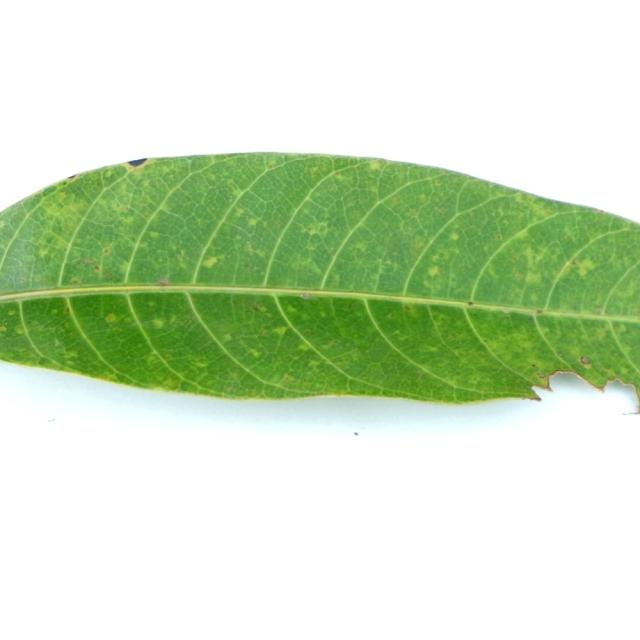Mango: (0, 154, 639, 403)
Powdery_Mildew: (535, 368, 597, 394), (603, 377, 639, 412), (325, 345, 362, 366), (197, 253, 225, 275), (572, 255, 597, 278), (527, 372, 553, 393), (122, 158, 148, 170), (303, 222, 324, 235), (525, 270, 543, 284), (13, 195, 33, 207), (272, 326, 288, 338), (120, 261, 134, 274), (353, 241, 369, 252), (38, 246, 52, 258), (145, 354, 160, 365), (284, 303, 299, 314), (164, 378, 179, 389), (181, 319, 196, 330), (427, 265, 440, 277), (151, 318, 165, 329), (368, 160, 382, 171), (297, 343, 313, 352), (231, 187, 244, 198), (253, 248, 266, 259), (539, 326, 552, 337), (247, 348, 260, 358), (414, 240, 426, 250), (424, 345, 439, 353), (579, 355, 591, 365), (247, 217, 260, 226), (254, 303, 267, 312), (193, 361, 207, 369), (528, 393, 542, 401), (105, 313, 117, 322), (258, 328, 270, 337), (65, 349, 78, 357), (308, 359, 321, 367), (449, 232, 460, 241), (331, 274, 340, 285), (325, 338, 337, 346), (157, 278, 169, 286), (469, 376, 479, 385), (589, 207, 604, 213), (222, 333, 233, 341), (229, 371, 240, 379), (436, 206, 447, 214), (83, 257, 95, 264), (594, 306, 604, 314), (327, 183, 337, 191), (282, 375, 293, 382), (148, 231, 160, 237), (318, 310, 327, 318), (104, 271, 113, 279), (66, 174, 78, 180), (15, 327, 25, 334), (70, 278, 80, 285), (446, 334, 456, 341), (6, 310, 17, 316), (300, 293, 311, 299), (537, 372, 548, 378), (218, 154, 231, 159), (234, 211, 242, 219), (514, 272, 523, 279), (120, 205, 129, 212), (31, 193, 40, 200), (528, 315, 537, 322), (417, 371, 426, 378), (33, 276, 43, 282), (607, 369, 617, 375), (0, 326, 8, 333), (267, 162, 275, 169), (494, 233, 502, 240), (434, 179, 442, 186), (0, 222, 7, 230), (469, 176, 480, 181), (148, 301, 157, 307), (347, 303, 354, 310), (54, 339, 61, 346), (306, 226, 314, 232), (164, 354, 172, 360), (303, 328, 311, 334), (311, 392, 323, 396), (334, 171, 341, 177), (50, 309, 58, 314), (536, 309, 544, 314), (502, 309, 510, 314), (94, 265, 100, 271), (571, 259, 577, 265), (104, 248, 110, 254), (64, 307, 70, 313), (558, 352, 564, 358), (404, 306, 411, 311), (467, 301, 474, 306), (635, 309, 640, 315), (531, 363, 537, 367)
